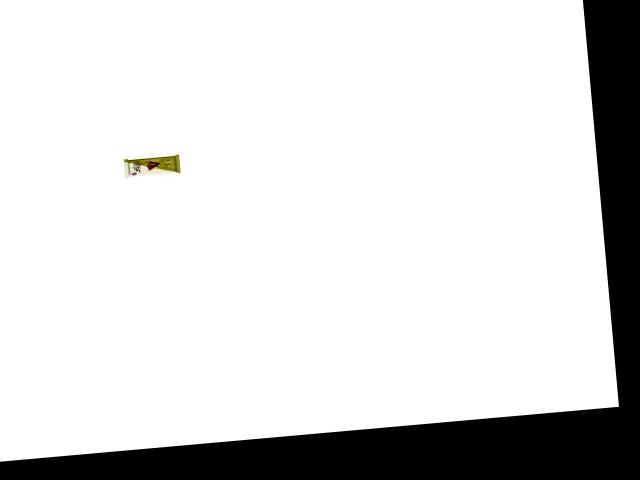chocolate: (119, 148, 183, 182)
